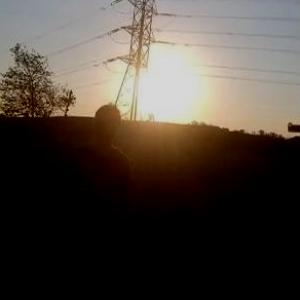follow: (53, 101, 133, 299)
